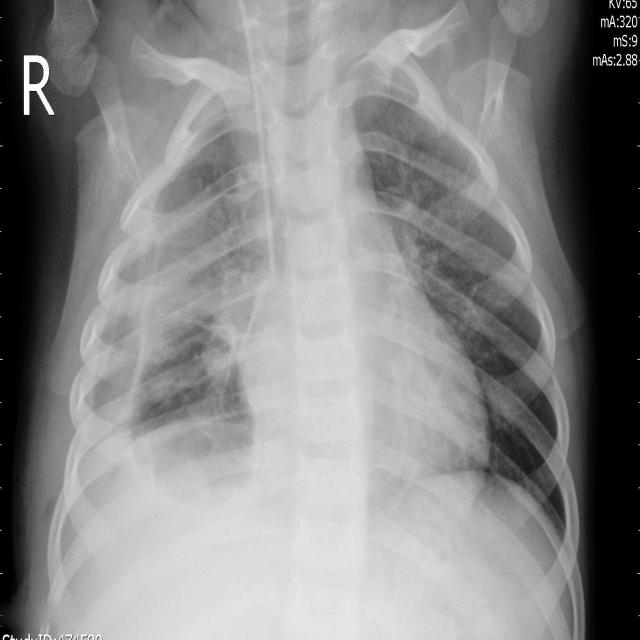low-pneumonia: (122, 198, 221, 350), (390, 190, 455, 308), (208, 259, 258, 394), (221, 134, 265, 258)
